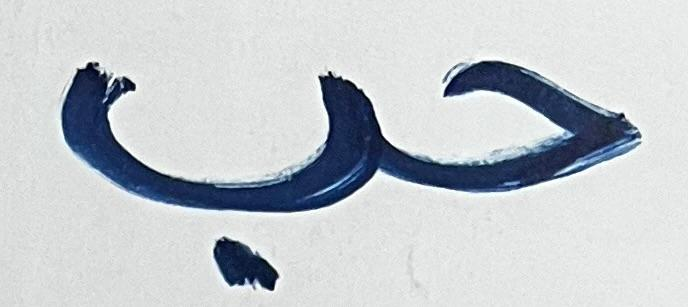beh: (52, 47, 382, 294)
hah: (385, 47, 655, 210)
